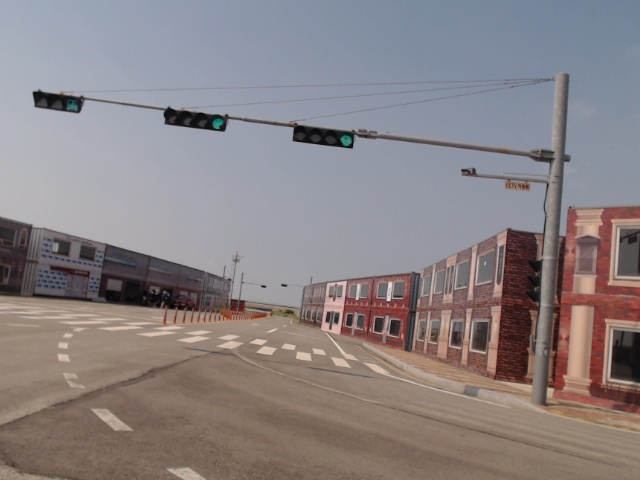straight_green_4: (164, 105, 229, 132), (293, 126, 354, 150)
